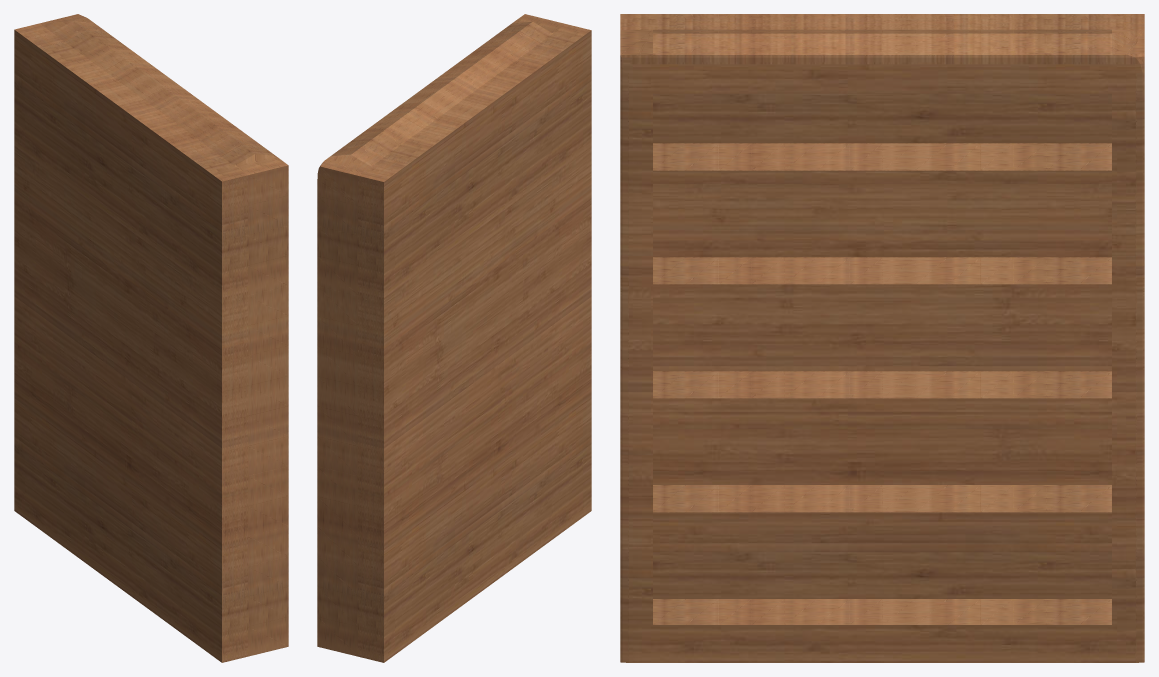
The model's file is bookshelf.fbx.
3 renders of one model, left to right at view 1: azimuth 30°, elevation 25°; view 2: azimuth 150°, elevation 25°; view 3: azimuth 270°, elevation 25°, orthographic. The views are drawn at different scales.
Parts seen in each view (by area): view 1: Cube; view 2: Cube; view 3: Cube.
Part boxes in pixels (left/top/right/bottom): Cube: left=14, top=14, right=288, bottom=662; Cube: left=317, top=14, right=591, bottom=662; Cube: left=620, top=14, right=1144, bottom=662.
Bounding box in the file's own units: 46.96 × 316 × 244.
1 material, 1 textured.
